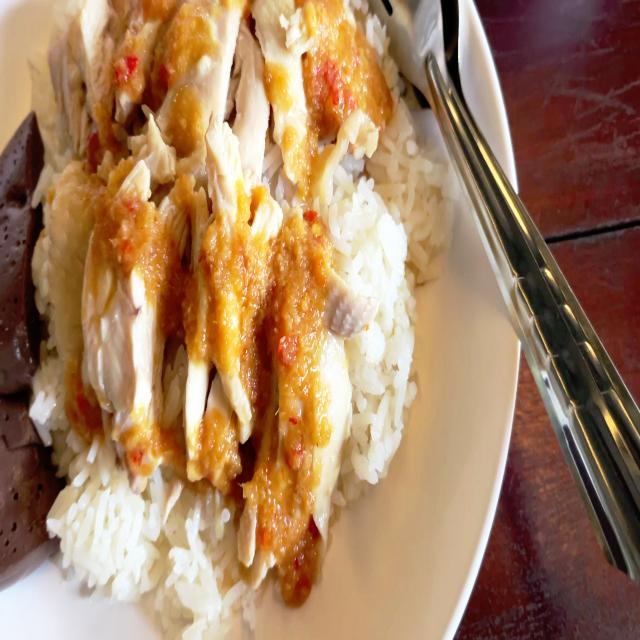boiled_chicken: (76, 15, 354, 501)
boiled_chicken_blood_jelly: (0, 341, 60, 568), (0, 97, 44, 389)
chicken_rice: (0, 0, 456, 640)
